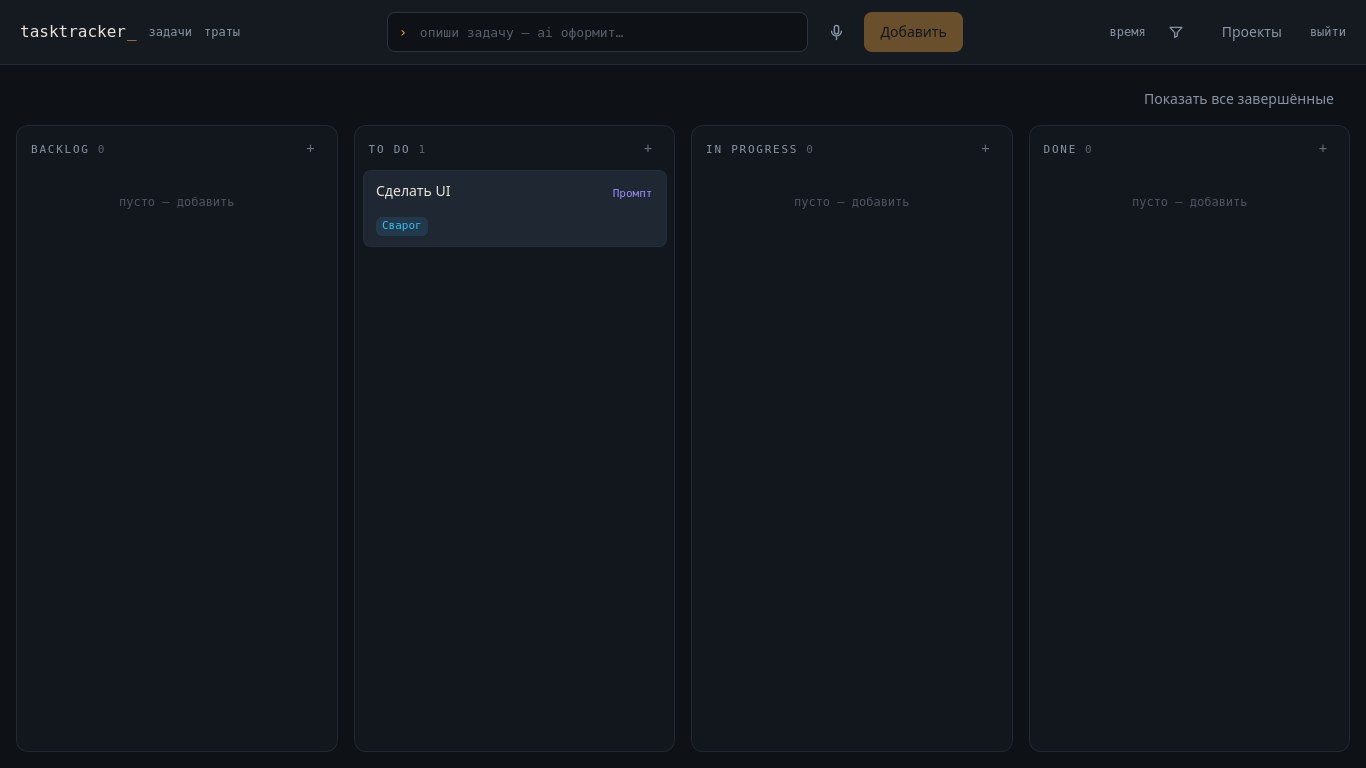
it: Промпт для кодового агента › показывает сетевую ошибку с повтором
The image size is (1366, 768).
What coordinates should you click on to do the following:
click the button with aria-label "Промпт для задачи «Сделать UI»"
I would click on:
 (632, 194)
Its box is left=604, top=176, right=660, bottom=212.
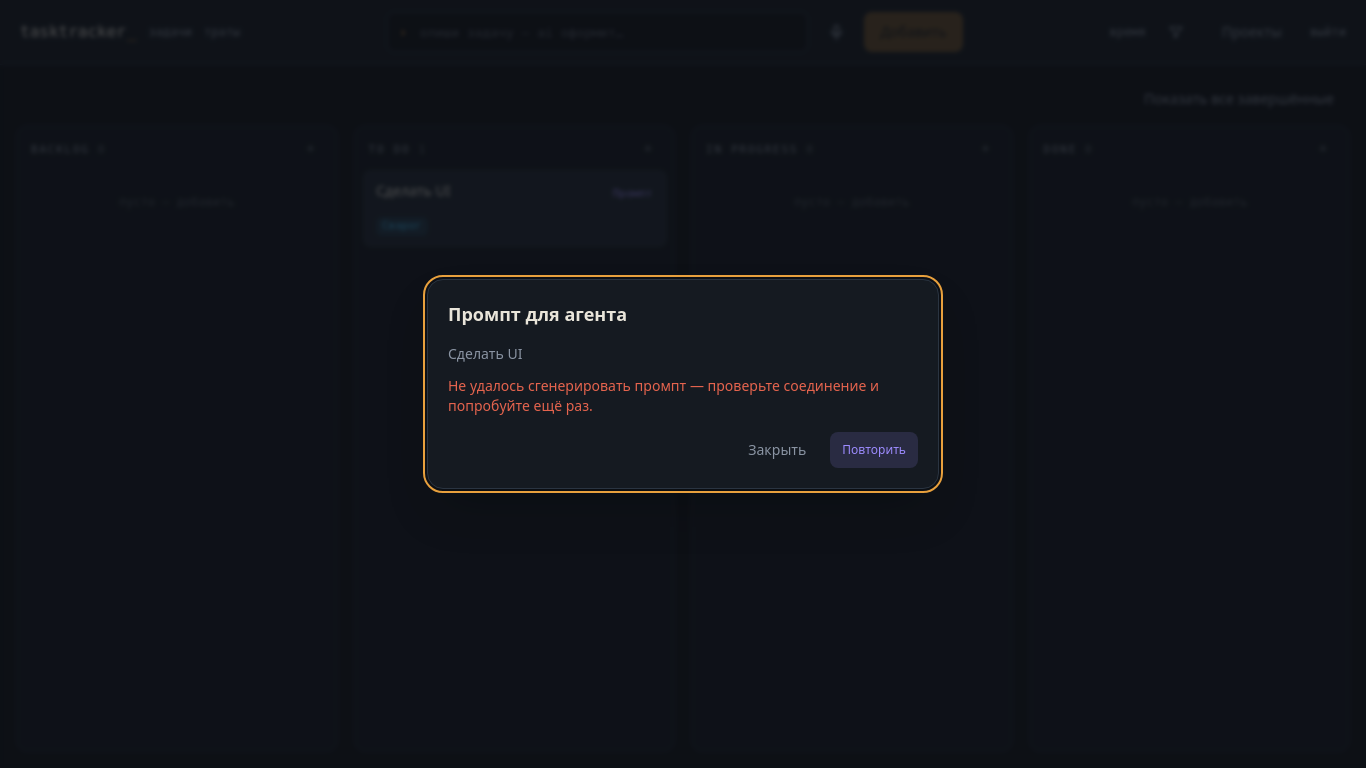
Now the message shows "проверьте соединение", box left=448, top=376, right=879, bottom=415
Now the button "Повторить" is enabled, box left=830, top=432, right=918, bottom=468
